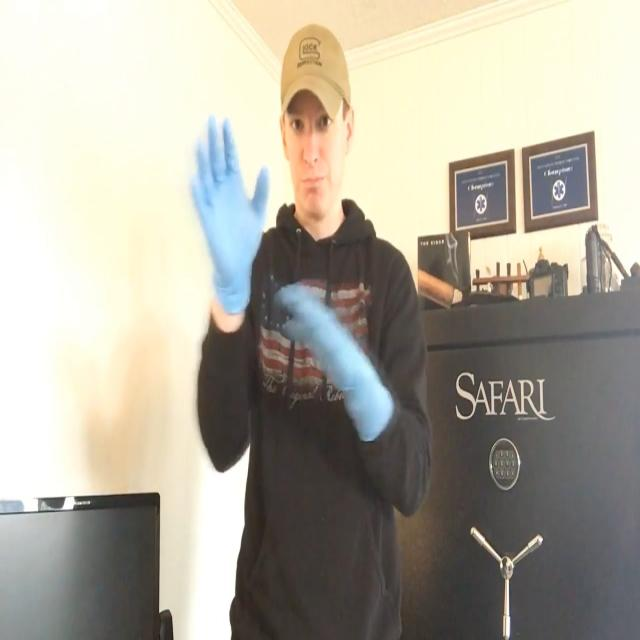Gloves: (183, 112, 268, 322)
